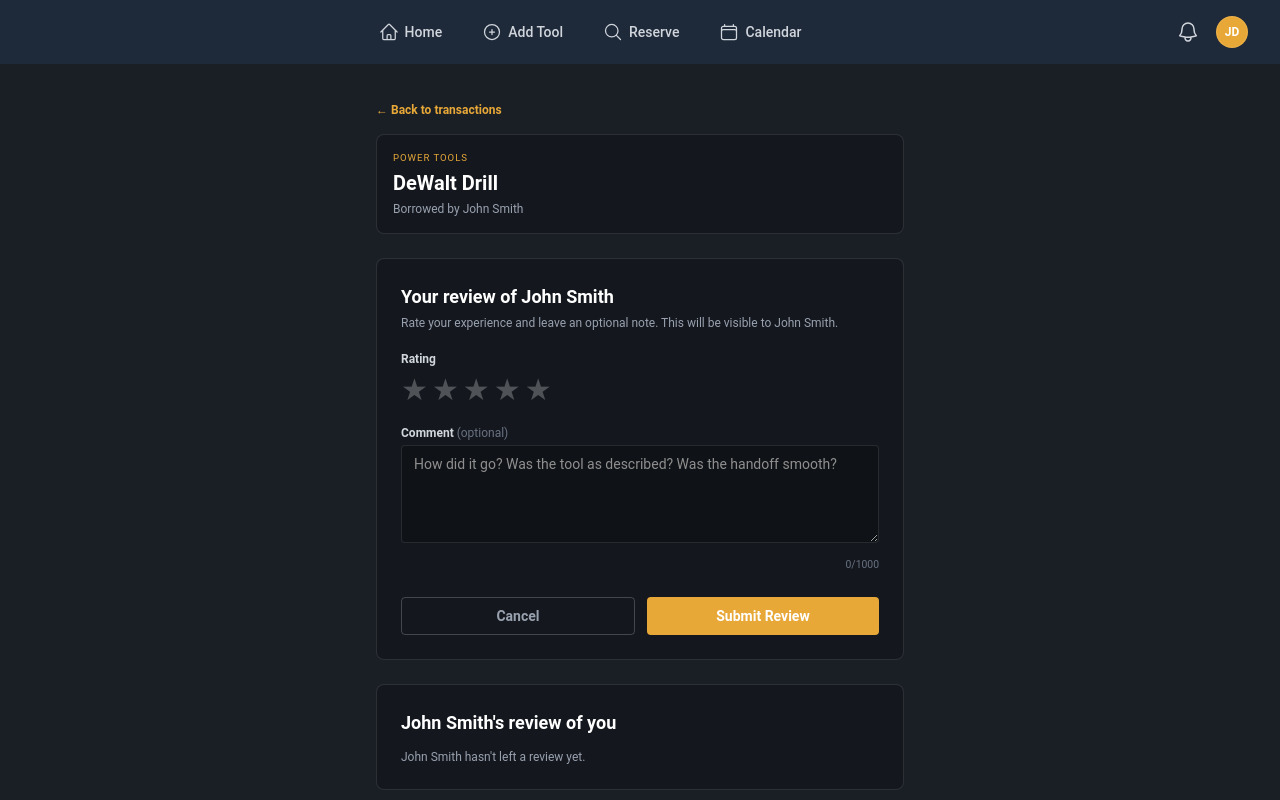
Test: MakeReview › rejects submitting without a rating
This screenshot has width=1280, height=800.
Click the button "Submit Review".
click(763, 616)  # box x1=647 y1=597 x2=879 y2=635
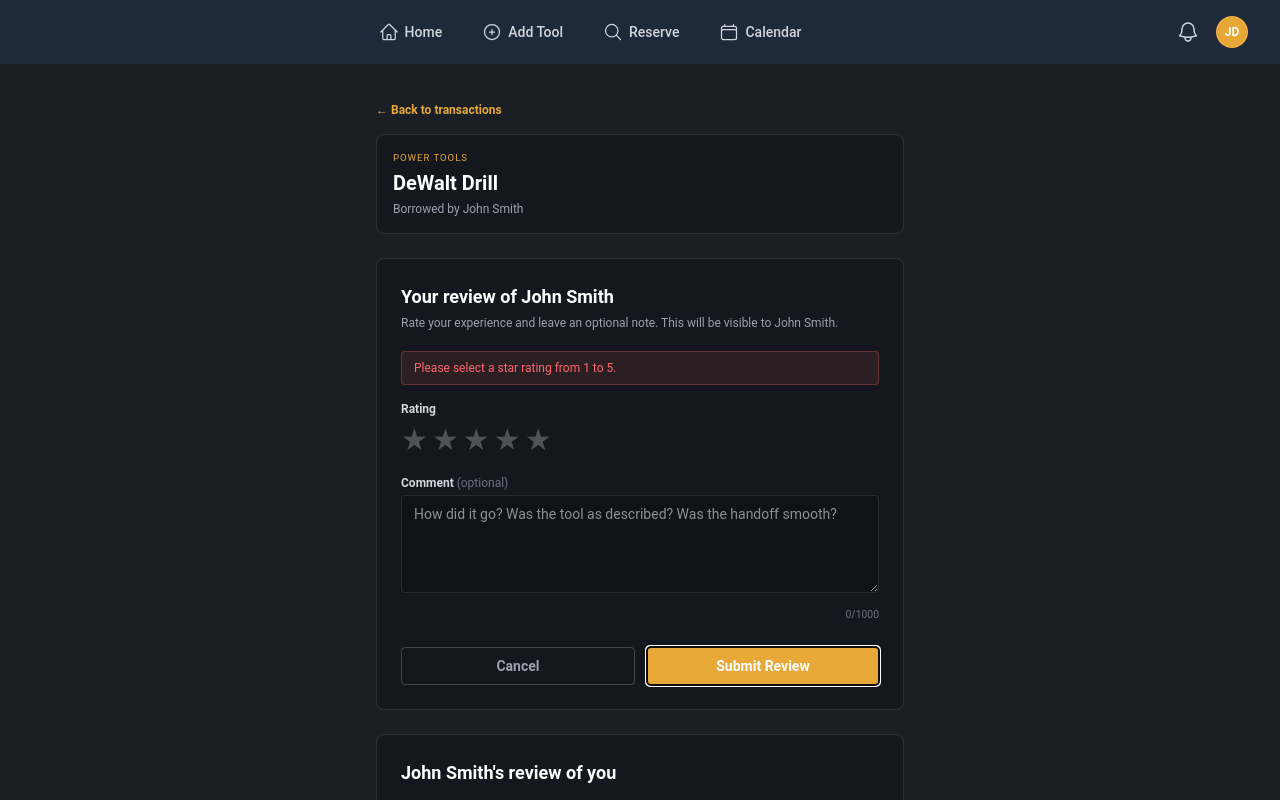
Now the text "Please select a star rating from 1 to 5." is shown, box x1=401 y1=351 x2=879 y2=385
